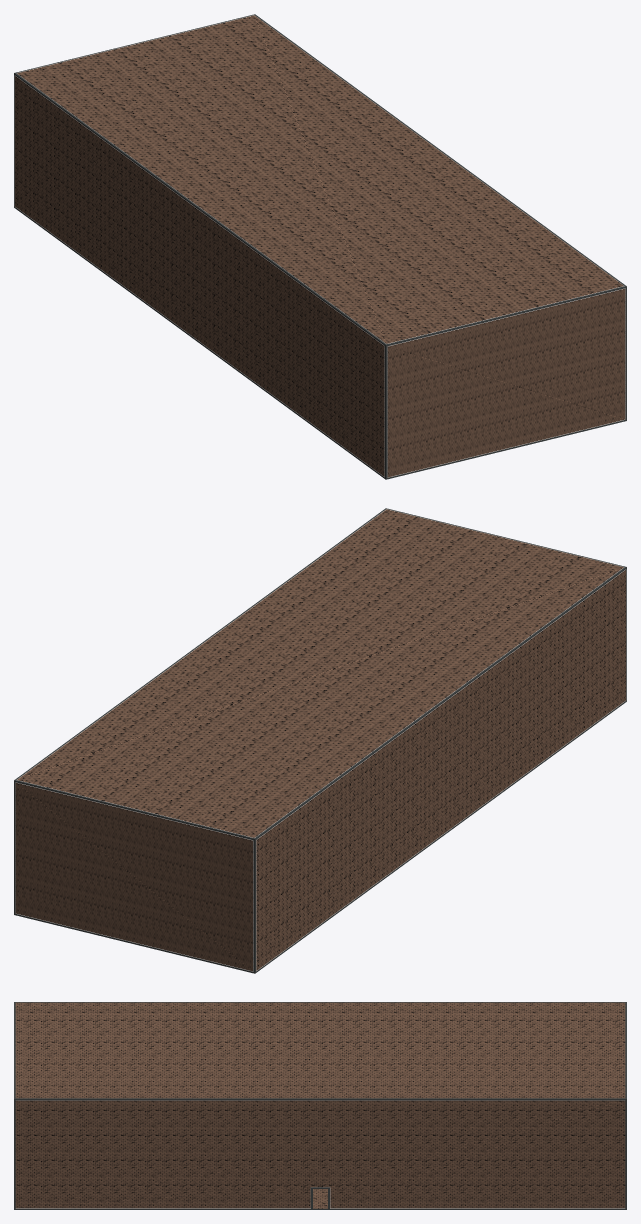
The model's file is building_3.fbx.
3 views of the same model, one above another, from view 1: azimuth 30°, elevation 25°; view 2: azimuth 150°, elevation 25°; view 3: azimuth 270°, elevation 25° (orthographic). The views are drawn at different scales.
Parts seen in each view (by area): view 1: Cube.011; view 2: Cube.011; view 3: Cube.011.
Boxes of the visible parts, box(x1,y1,x2,y2) form: Cube.011: box(14, 14, 626, 479); Cube.011: box(14, 508, 626, 973); Cube.011: box(14, 1002, 626, 1209).
Size of the model in its own units: 3004 by 1604 by 8017.
